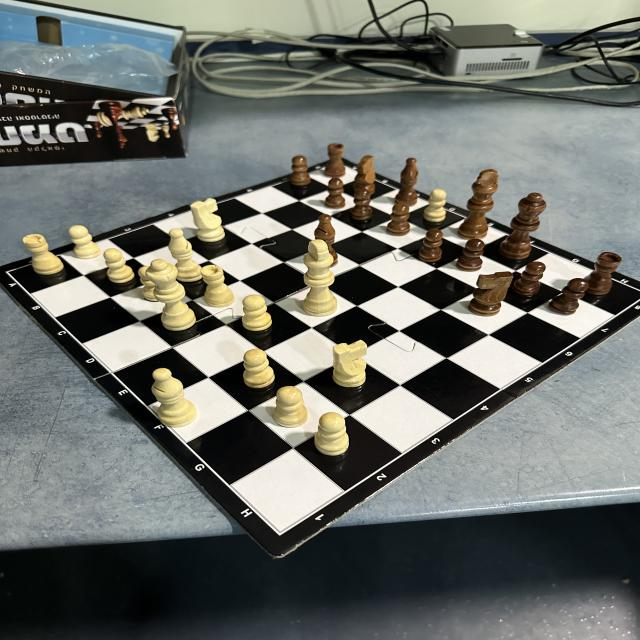Black-Bishop: (313, 214, 339, 268), (394, 157, 420, 207)
Black-King: (457, 168, 499, 240)
Black-Knight: (468, 272, 514, 316), (352, 154, 376, 196)
Black-Pawn: (548, 278, 588, 315), (512, 262, 545, 296), (456, 238, 485, 272), (418, 228, 443, 262), (386, 203, 410, 237), (350, 188, 374, 220), (288, 155, 312, 186), (324, 178, 346, 208)
Black-Queen: (498, 192, 546, 260)
Black-Rook: (584, 252, 622, 296), (324, 142, 346, 178)
White-Bishop: (150, 367, 197, 428), (168, 228, 202, 282)
White-King: (302, 239, 338, 317)
White-Knight: (332, 340, 368, 388), (189, 198, 226, 243)
White-Pawn: (314, 412, 350, 457), (273, 385, 308, 428), (242, 349, 276, 389), (68, 225, 102, 259), (103, 248, 135, 284), (241, 295, 272, 332), (423, 188, 447, 222), (138, 266, 157, 302)
White-Queen: (146, 258, 197, 332)
White-Rook: (22, 233, 64, 275), (200, 264, 236, 308)
